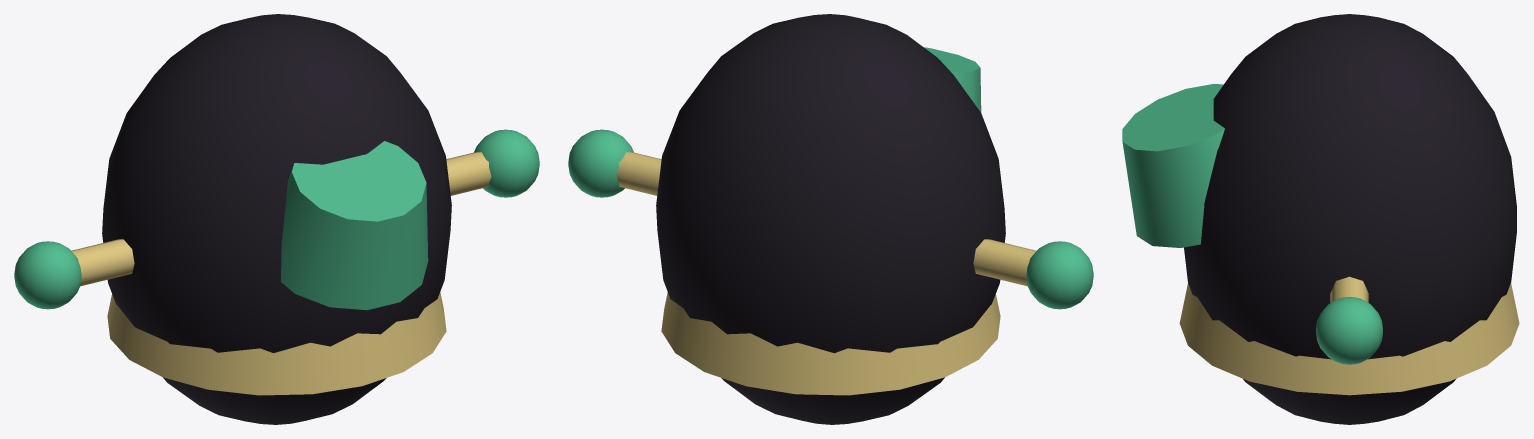
Rendered from head_ancient_1.glb.
3 views of the same model, side by side, from view 1: azimuth 30°, elevation 25°; view 2: azimuth 150°, elevation 25°; view 3: azimuth 270°, elevation 25° (orthographic).
Bounding box in the file's own units: 0.301 × 0.215 × 0.2009.
